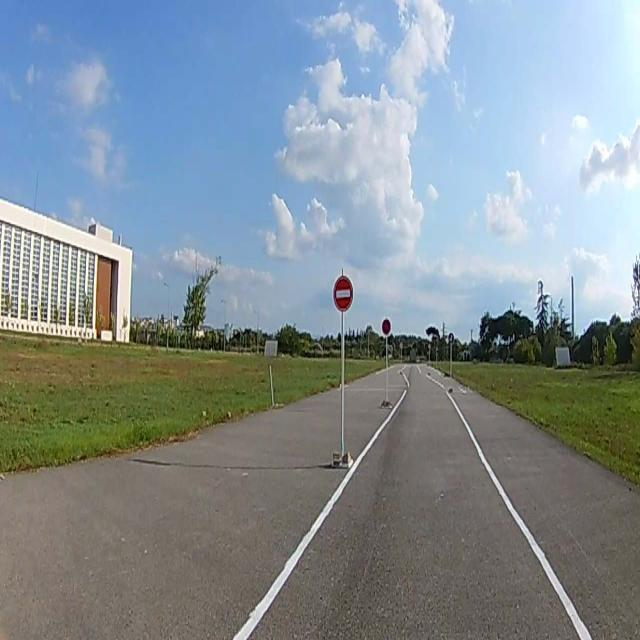girisyok: (334, 276, 354, 312)
